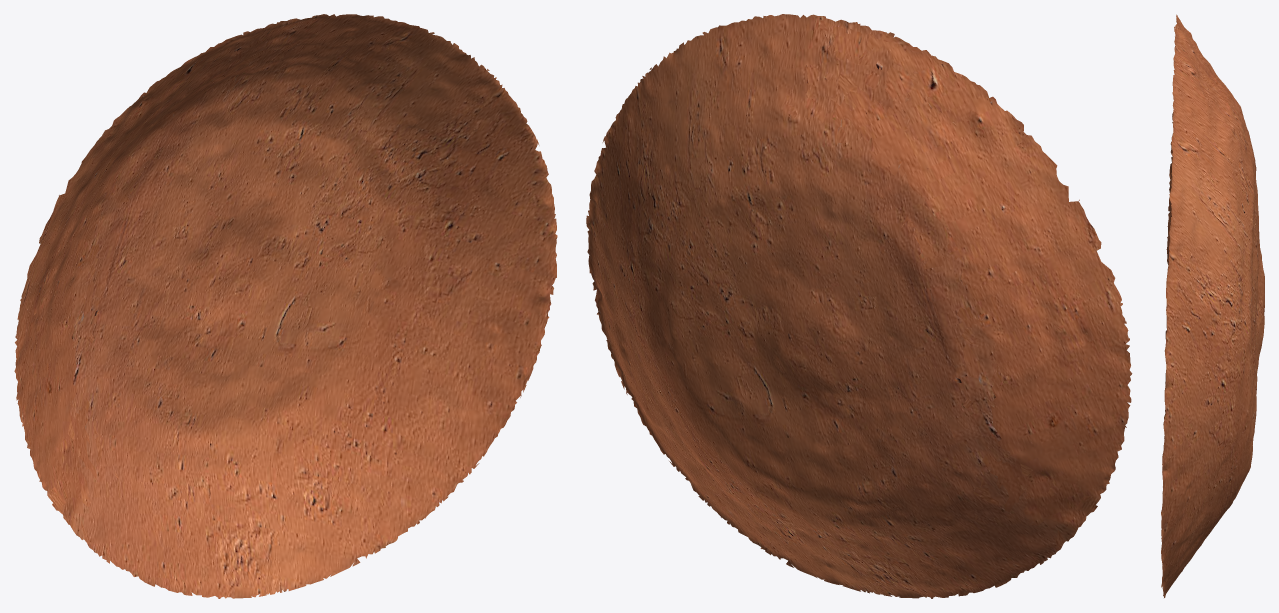
The model's file is plato.obj.
The picture shows the model from 3 angles, left to right: view 1: azimuth 30°, elevation 25°; view 2: azimuth 150°, elevation 25°; view 3: azimuth 270°, elevation 25°; orthographic projection. The views are drawn at different scales.
Parts seen in each view (by area): view 1: mesh; view 2: mesh; view 3: mesh.
Boxes of the visible parts, x1,y1,x2,y2 form: mesh: (14,14,557,598); mesh: (586,14,1132,598); mesh: (1161,14,1264,597).
Bounding box in the file's own units: 1.11 × 1.11 × 0.1971.
